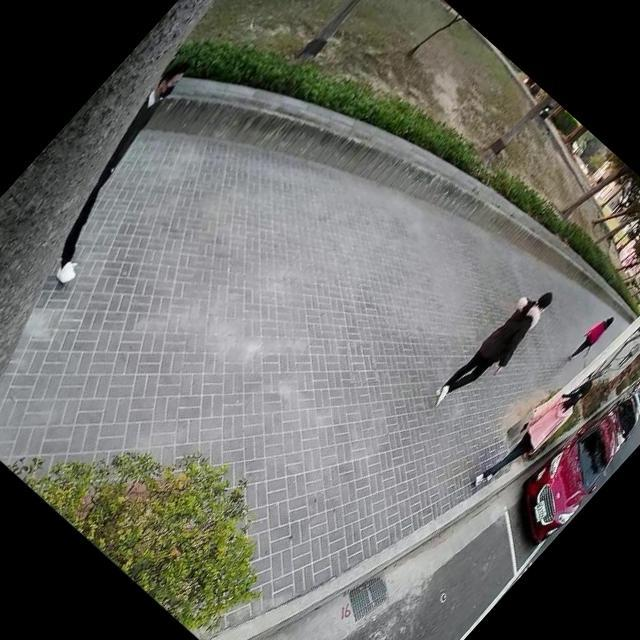person: (5, 48, 236, 292), (421, 271, 566, 426), (464, 359, 602, 506), (561, 304, 622, 370)
